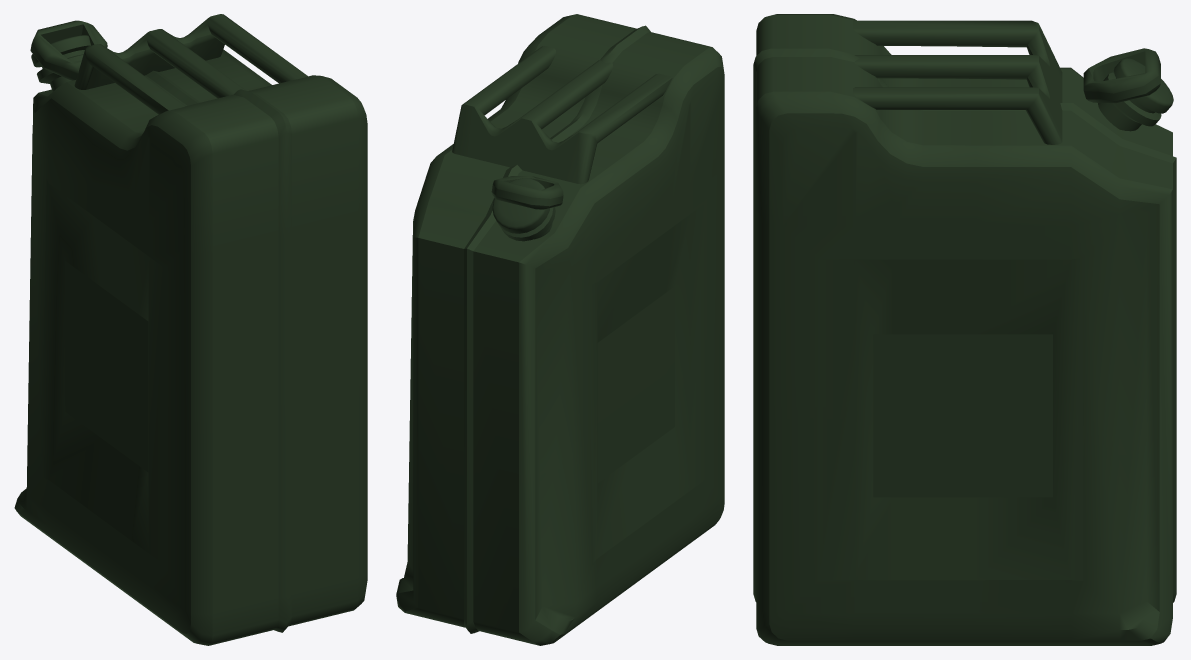
The model's file is Canister.fbx.
3 views of the same model, side by side, from view 1: azimuth 30°, elevation 25°; view 2: azimuth 150°, elevation 25°; view 3: azimuth 270°, elevation 25° (orthographic). The views are drawn at different scales.
Visible parts, largest first — view 1: Canister; view 2: Canister; view 3: Canister.
Boxes of the visible parts, box(x1,y1,x2,y2) form: Canister: box(14, 14, 367, 645); Canister: box(396, 14, 724, 645); Canister: box(753, 14, 1176, 645).
Bounding box in the file's own units: 55.33 × 149 × 102.
